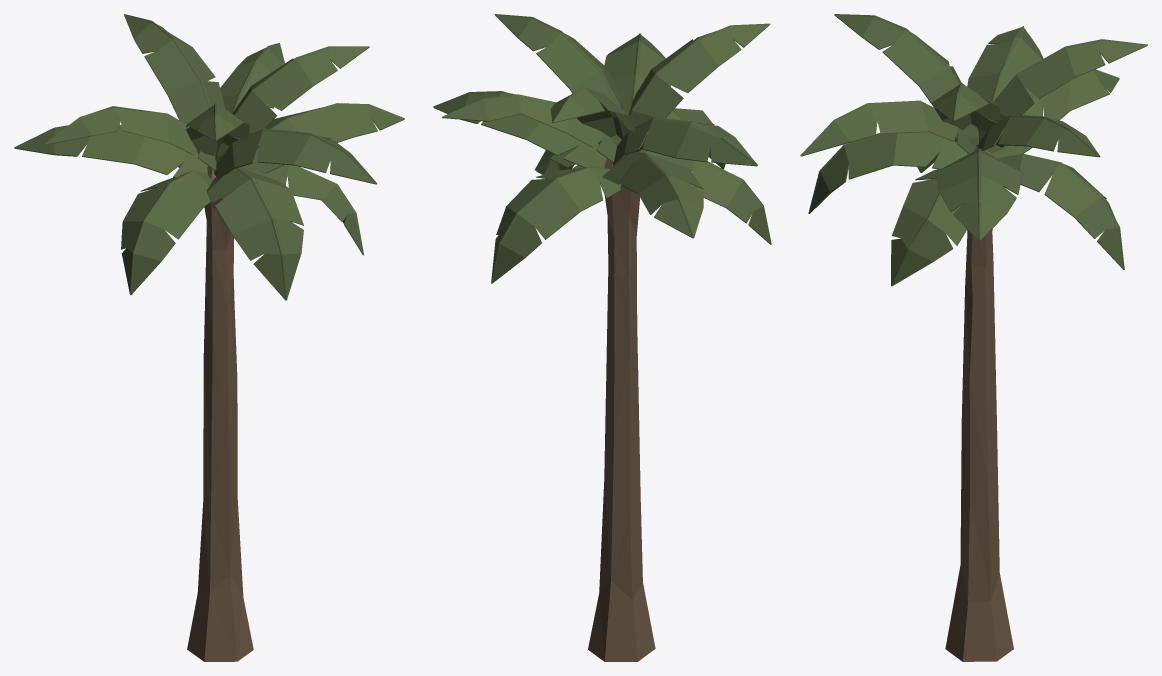
File: SM_Envr_Nature_Tree_Palm_02.fbx
The picture shows the model from 3 angles, left to right: view 1: azimuth 30°, elevation 25°; view 2: azimuth 150°, elevation 25°; view 3: azimuth 270°, elevation 25°; orthographic projection. The views are drawn at different scales.
Visible parts, largest first — view 1: SM_Envr_Nature_Tree_Palm_02; view 2: SM_Envr_Nature_Tree_Palm_02; view 3: SM_Envr_Nature_Tree_Palm_02.
Boxes of the visible parts, <box> form: SM_Envr_Nature_Tree_Palm_02: <box>14,14,404,661</box>; SM_Envr_Nature_Tree_Palm_02: <box>433,14,771,661</box>; SM_Envr_Nature_Tree_Palm_02: <box>800,14,1147,661</box>.
Size of the model in its own units: 633 by 1048 by 545.
